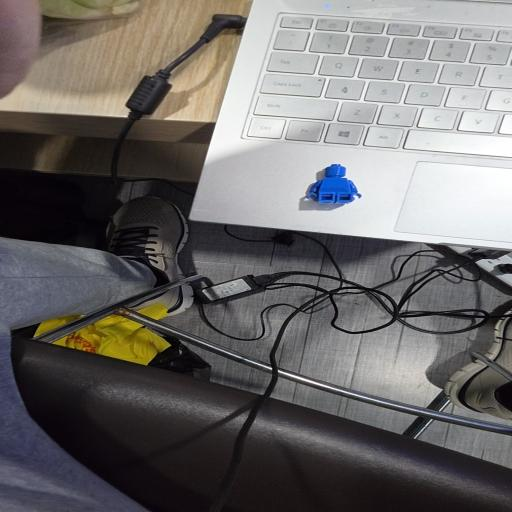Blue: (307, 164, 361, 204)
